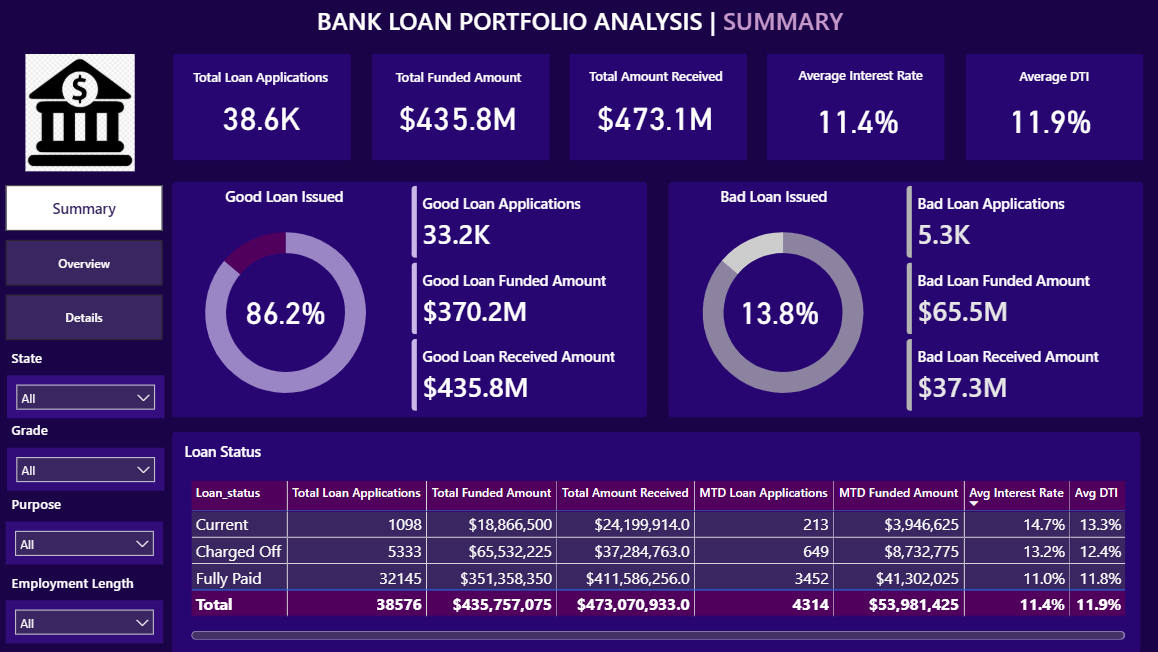

Layout of this report page (visuals, bound fields, positions):
{"tool":"powerbi","page":{"name":"Summary","canvas":[1280,720],"ordinal":0},"visuals":[{"type":"shape","box":[193,60.3,194.9,116.6],"z":0,"group":"g1"},{"type":"shape","box":[411.3,60.3,194.9,116.6],"z":0,"group":"g2"},{"type":"shape","box":[627.8,60.4,194.9,116.6],"z":0,"group":"g3"},{"type":"shape","box":[845.6,60.4,194.9,116.6],"z":0,"group":"g4"},{"type":"shape","box":[1063.5,60.4,194.9,116.6],"z":0,"group":"g5"},{"type":"shape","box":[192.1,200.3,521.4,259.3],"z":0},{"type":"textbox","box":[0,0,1280.3,59],"z":1000},{"type":"cardVisual","fields":{"Data":["financial_loan.Total Loan Applications"]},"box":[194.1,97.2,191.8,65.1],"z":1000,"group":"g1"},{"type":"cardVisual","fields":{"Data":["financial_loan.Total Funded Amount"]},"box":[410.2,97.2,191.8,65.1],"z":1000,"group":"g2"},{"type":"cardVisual","fields":{"Data":["financial_loan.Total Amount Received"]},"box":[626.8,97.3,191.8,65.1],"z":1000,"group":"g3"},{"type":"cardVisual","fields":{"Data":["financial_loan.Avg Interest Rate"]},"box":[849.7,99.8,191.8,65.1],"z":1000,"group":"g4"},{"type":"cardVisual","fields":{"Data":["financial_loan.Avg DTI"]},"box":[1060.5,99.8,191.8,65.1],"z":1000,"group":"g5"},{"type":"textbox","box":[0,59.1,191.8,661.1],"z":2000},{"type":"textbox","box":[866.6,68.4,164.1,32.6],"z":2000,"group":"g4"},{"type":"textbox","box":[640.3,69.6,165.3,32.6],"z":2000,"group":"g3"},{"type":"textbox","box":[1078,69.6,164.1,32.6],"z":2000,"group":"g5"},{"type":"textbox","box":[206.2,70.8,164.1,32.6],"z":2000,"group":"g1"},{"type":"textbox","box":[424.4,70.8,165.3,32.6],"z":2000,"group":"g2"},{"type":"textbox","box":[245.1,200,142.3,33.8],"z":3000},{"type":"cardVisual","fields":{"Data":["financial_loan.Good Loan %"]},"box":[227.8,311.5,178.4,65.9],"z":4000},{"type":"group","id":"g1","title":"Group 1","box":[193,60.3,194.9,116.6],"z":5000},{"type":"group","id":"g2","title":"Group 1","box":[410.2,60.3,196,116.6],"z":6000},{"type":"group","id":"g3","title":"Group 1","box":[626.8,60.4,195.8,116.6],"z":7000},{"type":"group","id":"g4","title":"Group 1","box":[845.6,60.4,195.9,116.6],"z":8000},{"type":"donutChart","fields":{"Category":["financial_loan.Good vs Bad Loan"],"Y":["financial_loan.Total Loan Applications"]},"box":[192.1,229.2,249.7,230.5],"z":9000},{"type":"shape","box":[192.1,474.8,1063.5,245.6],"z":10000},{"type":"group","id":"g5","title":"Group 1","box":[1060.5,60.4,197.8,116.6],"z":11000},{"type":"shape","box":[736.9,200.3,521.4,259.3],"z":12000},{"type":"cardVisual","fields":{"Data":["financial_loan.Good Loan Applications","financial_loan.Good Loan Funded Amount","financial_loan.Good Loan Received Amount"]},"box":[450.7,200,262,259.2],"z":13000},{"type":"donutChart","fields":{"Category":["financial_loan.Good vs Bad Loan"],"Y":["financial_loan.Total Loan Applications"]},"box":[738.3,229.2,249.7,230.5],"z":14000},{"type":"textbox","box":[789,200.3,142.7,34.3],"z":15000},{"type":"cardVisual","fields":{"Data":["financial_loan.Bad Loan %"]},"box":[769.8,311.5,178.4,65.9],"z":16000},{"type":"cardVisual","fields":{"Data":["financial_loan.Bad Loan Applications","financial_loan.Bad Loan Funded Amount","financial_loan.Bad Loan Received Amount"]},"box":[993.5,200.3,262.1,259.3],"z":17000},{"type":"tableEx","fields":{"Values":["financial_loan.loan_status","financial_loan.Total Loan Applications","financial_loan.Total Funded Amount","financial_loan.Total Amount Received","financial_loan.MTD Loan Applications","financial_loan.MTD Funded Amount","financial_loan.Avg Interest Rate","financial_loan.Avg DTI"]},"box":[207.2,524.2,1036,183.9],"z":18000},{"type":"textbox","box":[192.1,480.3,142.7,34.3],"z":19000},{"type":"slicer","fields":{"Values":["financial_loan.address_state"]},"box":[10.9,412.6,172.5,47.1],"z":20000},{"type":"textbox","box":[10.9,378.8,56.7,33.8],"z":21000},{"type":"textbox","box":[10.9,458.4,68.8,33.8],"z":22000},{"type":"slicer","fields":{"Values":["financial_loan.grade"]},"box":[10.9,492.2,172.5,47.1],"z":23000},{"type":"slicer","fields":{"Values":["financial_loan.purpose"]},"box":[9.7,574.3,172.5,47.1],"z":24000},{"type":"slicer","fields":{"Values":["financial_loan.emp_length"]},"box":[9.7,659.9,172.5,47.1],"z":25000},{"type":"textbox","box":[10.9,539.3,102.5,33.8],"z":26000},{"type":"textbox","box":[10.9,626.1,154.4,33.8],"z":27000},{"type":"image","box":[0,60.3,182.2,129.1],"z":28000},{"type":"pageNavigator","box":[9.7,205.1,172.5,172.5],"z":29000}]}

Visuals, with their boxes in screenshot pixels (x1, y1, x2, y2), scaled from the page's 1280x720 canvas onto the 1158x652 screenshot:
shape: (left=175, top=55, right=351, bottom=160)
shape: (left=372, top=55, right=548, bottom=160)
shape: (left=568, top=55, right=744, bottom=160)
shape: (left=765, top=55, right=941, bottom=160)
shape: (left=962, top=55, right=1138, bottom=160)
shape: (left=174, top=181, right=645, bottom=416)
textbox: (left=0, top=0, right=1157, bottom=53)
cardVisual - financial_loan.Total Loan Applications: (left=176, top=88, right=349, bottom=147)
cardVisual - financial_loan.Total Funded Amount: (left=371, top=88, right=545, bottom=147)
cardVisual - financial_loan.Total Amount Received: (left=567, top=88, right=741, bottom=147)
cardVisual - financial_loan.Avg Interest Rate: (left=769, top=90, right=942, bottom=149)
cardVisual - financial_loan.Avg DTI: (left=959, top=90, right=1133, bottom=149)
textbox: (left=0, top=54, right=174, bottom=651)
textbox: (left=784, top=62, right=932, bottom=91)
textbox: (left=579, top=63, right=729, bottom=93)
textbox: (left=975, top=63, right=1124, bottom=93)
textbox: (left=187, top=64, right=335, bottom=94)
textbox: (left=384, top=64, right=533, bottom=94)
textbox: (left=222, top=181, right=350, bottom=212)
cardVisual - financial_loan.Good Loan %: (left=206, top=282, right=367, bottom=342)
"Group 1" group: (left=175, top=55, right=351, bottom=160)
"Group 1" group: (left=371, top=55, right=548, bottom=160)
"Group 1" group: (left=567, top=55, right=744, bottom=160)
"Group 1" group: (left=765, top=55, right=942, bottom=160)
donutChart - financial_loan.Good vs Bad Loan x financial_loan.Total Loan Applications: (left=174, top=208, right=400, bottom=416)
shape: (left=174, top=430, right=1136, bottom=651)
"Group 1" group: (left=959, top=55, right=1138, bottom=160)
shape: (left=667, top=181, right=1138, bottom=416)
cardVisual - financial_loan.Good Loan Applications x financial_loan.Good Loan Funded Amount: (left=408, top=181, right=645, bottom=416)
donutChart - financial_loan.Good vs Bad Loan x financial_loan.Total Loan Applications: (left=668, top=208, right=894, bottom=416)
textbox: (left=714, top=181, right=843, bottom=212)
cardVisual - financial_loan.Bad Loan %: (left=696, top=282, right=858, bottom=342)
cardVisual - financial_loan.Bad Loan Applications x financial_loan.Bad Loan Funded Amount: (left=899, top=181, right=1136, bottom=416)
tableEx - financial_loan.loan_status x financial_loan.Total Loan Applications: (left=187, top=475, right=1125, bottom=641)
textbox: (left=174, top=435, right=303, bottom=466)
slicer - financial_loan.address_state: (left=10, top=374, right=166, bottom=416)
textbox: (left=10, top=343, right=61, bottom=374)
textbox: (left=10, top=415, right=72, bottom=446)
slicer - financial_loan.grade: (left=10, top=446, right=166, bottom=488)
slicer - financial_loan.purpose: (left=9, top=520, right=165, bottom=563)
slicer - financial_loan.emp_length: (left=9, top=598, right=165, bottom=640)
textbox: (left=10, top=488, right=103, bottom=519)
textbox: (left=10, top=567, right=150, bottom=598)
image: (left=0, top=55, right=165, bottom=172)
pageNavigator: (left=9, top=186, right=165, bottom=342)
